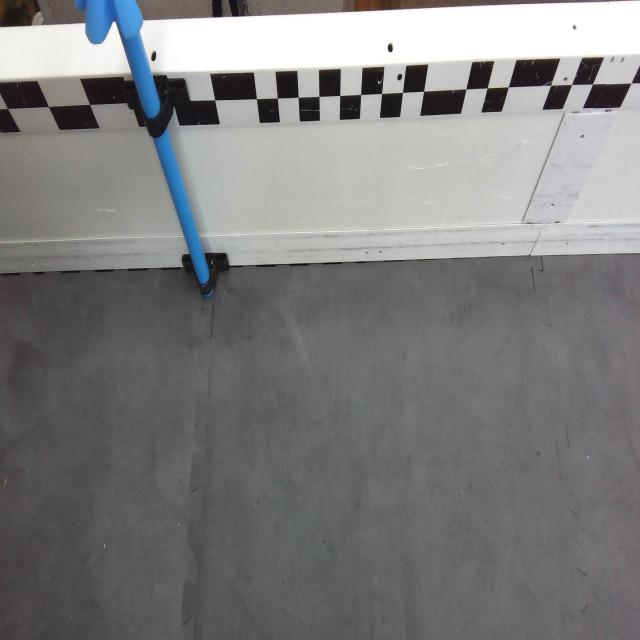zblue-Stake-Head: (74, 0, 146, 46)
